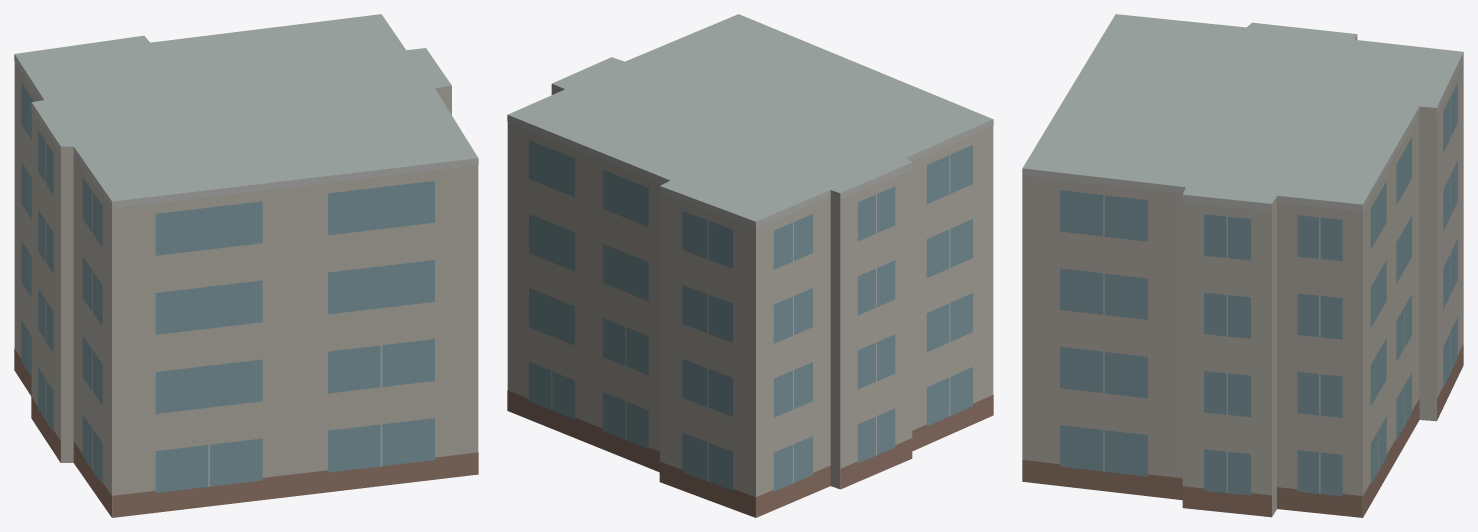
The model's file is survey-upis-32947423.glb.
3 renders of one model, left to right at view 1: azimuth 30°, elevation 25°; view 2: azimuth 150°, elevation 25°; view 3: azimuth 270°, elevation 25°, orthographic. The views are drawn at different scales.
Visible parts, largest first — view 1: survey-upis-32947423.tmp; view 2: survey-upis-32947423.tmp; view 3: survey-upis-32947423.tmp.
Part boxes in pixels (<box>): survey-upis-32947423.tmp: <box>14,14,478,517</box>; survey-upis-32947423.tmp: <box>507,14,993,517</box>; survey-upis-32947423.tmp: <box>1022,14,1463,517</box>.
Bounding box in the file's own units: 14.23 × 10.9 × 13.92.
